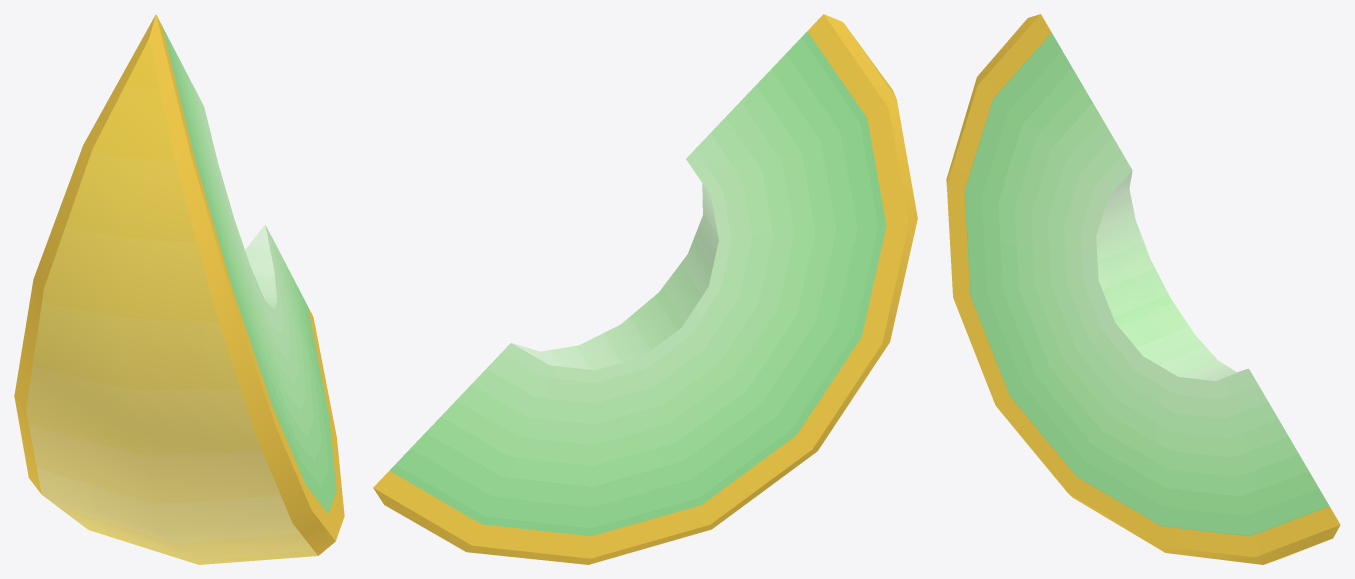
The model's file is melon_cut.glb.
3 views of the same model, side by side, from view 1: azimuth 30°, elevation 25°; view 2: azimuth 150°, elevation 25°; view 3: azimuth 270°, elevation 25° (orthographic). The views are drawn at different scales.
Parts seen in each view (by area): view 1: mesh_melon_cut_2_01 - Default.001_0; view 2: mesh_melon_cut_2_01 - Default.001_0; view 3: mesh_melon_cut_2_01 - Default.001_0.
Boxes of the visible parts, x1,y1,x2,y2 form: mesh_melon_cut_2_01 - Default.001_0: [14, 14, 344, 564]; mesh_melon_cut_2_01 - Default.001_0: [373, 14, 917, 564]; mesh_melon_cut_2_01 - Default.001_0: [946, 14, 1340, 564].
Bounding box in the file's own units: 124 × 159 × 124.
1 material, 1 textured.
